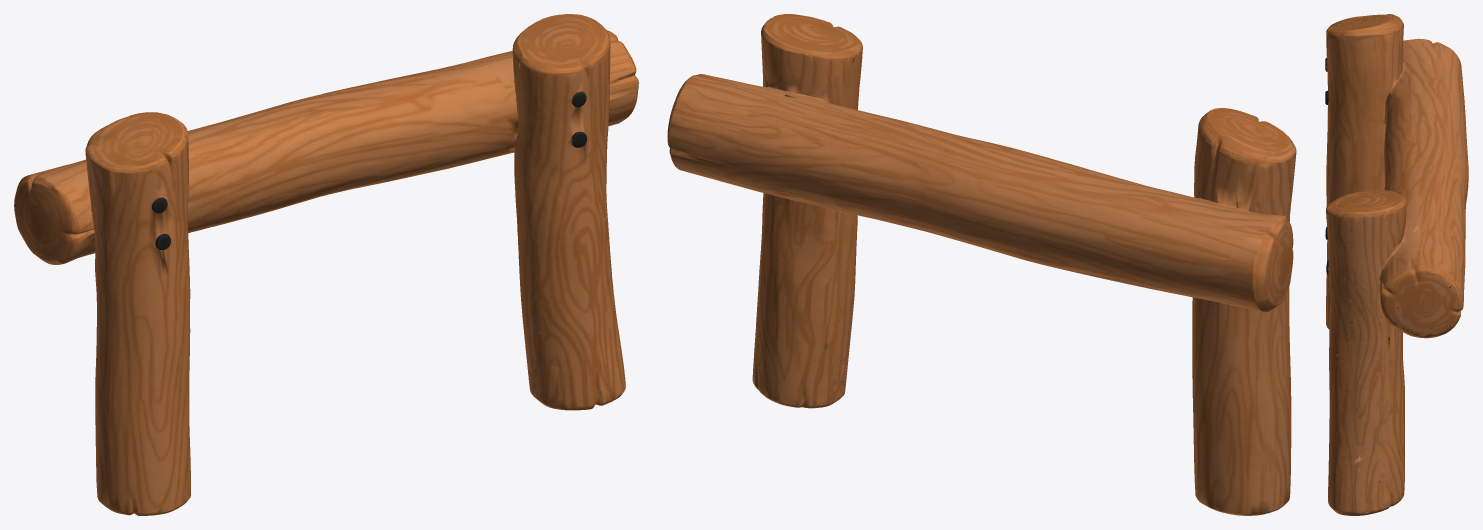
File: Log_Fence.fbx
3 renders of one model, left to right at view 1: azimuth 30°, elevation 25°; view 2: azimuth 150°, elevation 25°; view 3: azimuth 270°, elevation 25°, orthographic. The views are drawn at different scales.
Parts seen in each view (by area): view 1: Mesh_0; view 2: Mesh_0; view 3: Mesh_0.
Boxes of the visible parts, x1,y1,x2,y2 form: Mesh_0: [14, 14, 638, 515]; Mesh_0: [667, 14, 1296, 515]; Mesh_0: [1325, 14, 1468, 515].
Size of the model in its own units: 190 by 116 by 48.36.
Materials: 1 (1 with a texture image).
